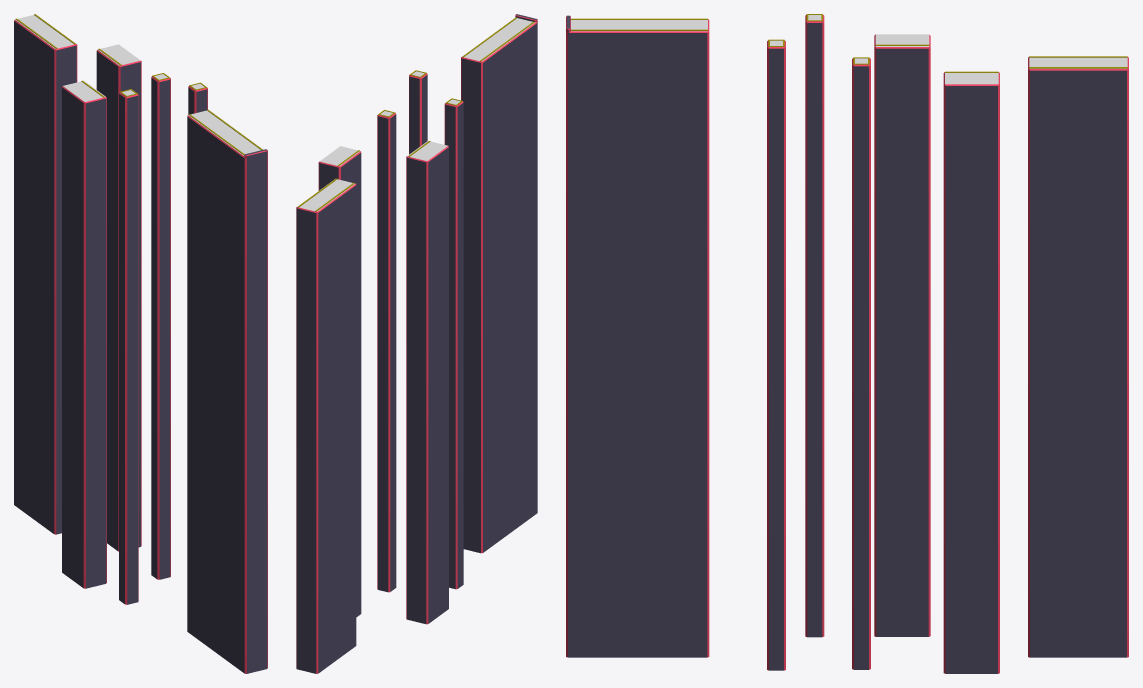
The model's file is Ground B.fbx.
3 renders of one model, left to right at view 1: azimuth 30°, elevation 25°; view 2: azimuth 150°, elevation 25°; view 3: azimuth 270°, elevation 25°, orthographic. The views are drawn at different scales.
Visible parts, largest first — view 1: Grounds; view 2: Grounds; view 3: Grounds.
Boxes of the visible parts, x1=… form: Grounds: x1=14, y1=14, x2=267, y2=673; Grounds: x1=296, y1=14, x2=537, y2=673; Grounds: x1=566, y1=14, x2=1128, y2=673.
Bounding box in the file's own units: 18.65 × 107 × 86.73.
